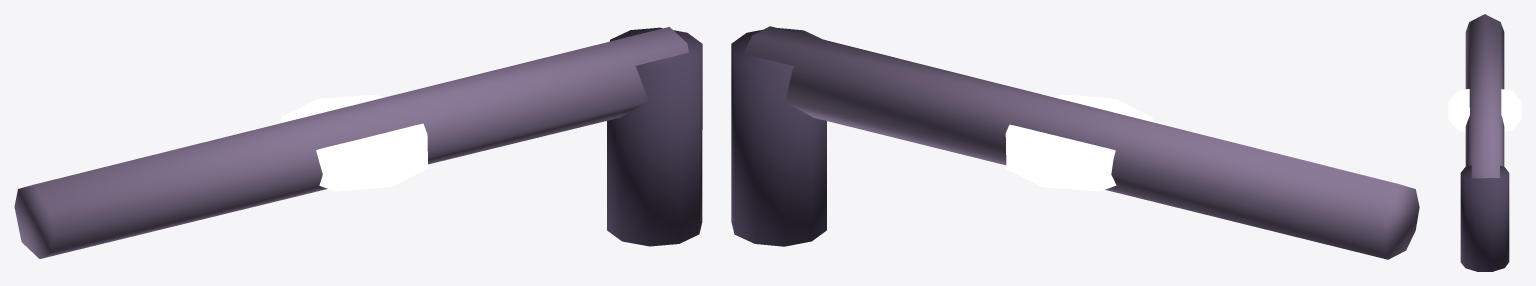
File: SM_Labor_Pipe_LOD3.fbx
3 renders of one model, left to right at view 1: azimuth 30°, elevation 25°; view 2: azimuth 150°, elevation 25°; view 3: azimuth 270°, elevation 25°, orthographic. The views are drawn at different scales.
Parts seen in each view (by area): view 1: SM_Labor_Pipe_LOD3; view 2: SM_Labor_Pipe_LOD3; view 3: SM_Labor_Pipe_LOD3.
Part boxes in pixels (left/top/right/bottom): SM_Labor_Pipe_LOD3: left=14, top=27, right=702, bottom=258; SM_Labor_Pipe_LOD3: left=731, top=26, right=1419, bottom=259; SM_Labor_Pipe_LOD3: left=1448, top=14, right=1521, bottom=271.
Size of the model in its own units: 3.09 by 0.8615 by 0.5953.
